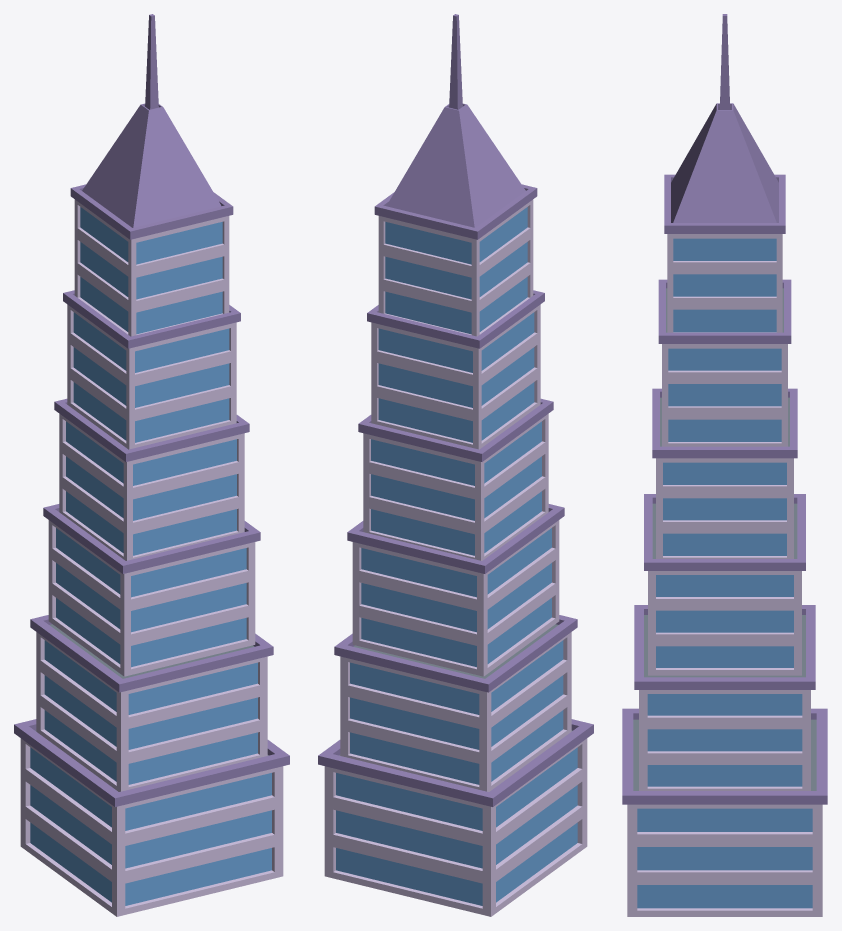
File: Skyscraper01.fbx
3 views of the same model, side by side, from view 1: azimuth 30°, elevation 25°; view 2: azimuth 150°, elevation 25°; view 3: azimuth 270°, elevation 25° (orthographic).
Parts seen in each view (by area): view 1: Skyscraper01; view 2: Skyscraper01; view 3: Skyscraper01.
Boxes of the visible parts, bbox=[...] form: Skyscraper01: bbox=[14, 14, 289, 916]; Skyscraper01: bbox=[318, 14, 593, 916]; Skyscraper01: bbox=[622, 14, 827, 916].
Size of the model in its own units: 713 by 3298 by 713.
